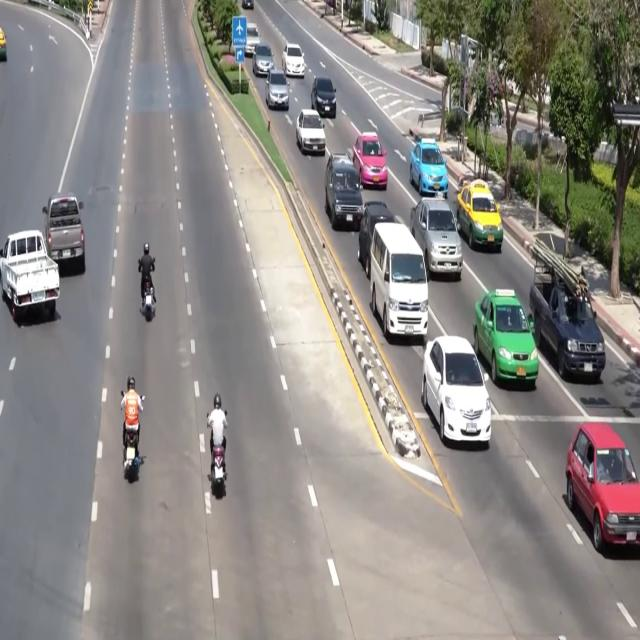car: (566, 423, 639, 552), (422, 336, 491, 444), (473, 289, 538, 386), (410, 198, 462, 280), (457, 179, 503, 252), (358, 201, 399, 279), (325, 153, 363, 231), (410, 138, 448, 196), (353, 132, 387, 189), (295, 110, 325, 155), (265, 67, 289, 111), (311, 77, 336, 118), (282, 43, 305, 78), (252, 42, 273, 76), (245, 24, 260, 56), (0, 28, 6, 61), (241, 0, 254, 9)
scooty: (210, 442, 226, 498), (123, 429, 140, 481), (142, 283, 155, 321)
truck: (530, 239, 605, 381), (0, 231, 59, 321), (43, 193, 85, 272)
